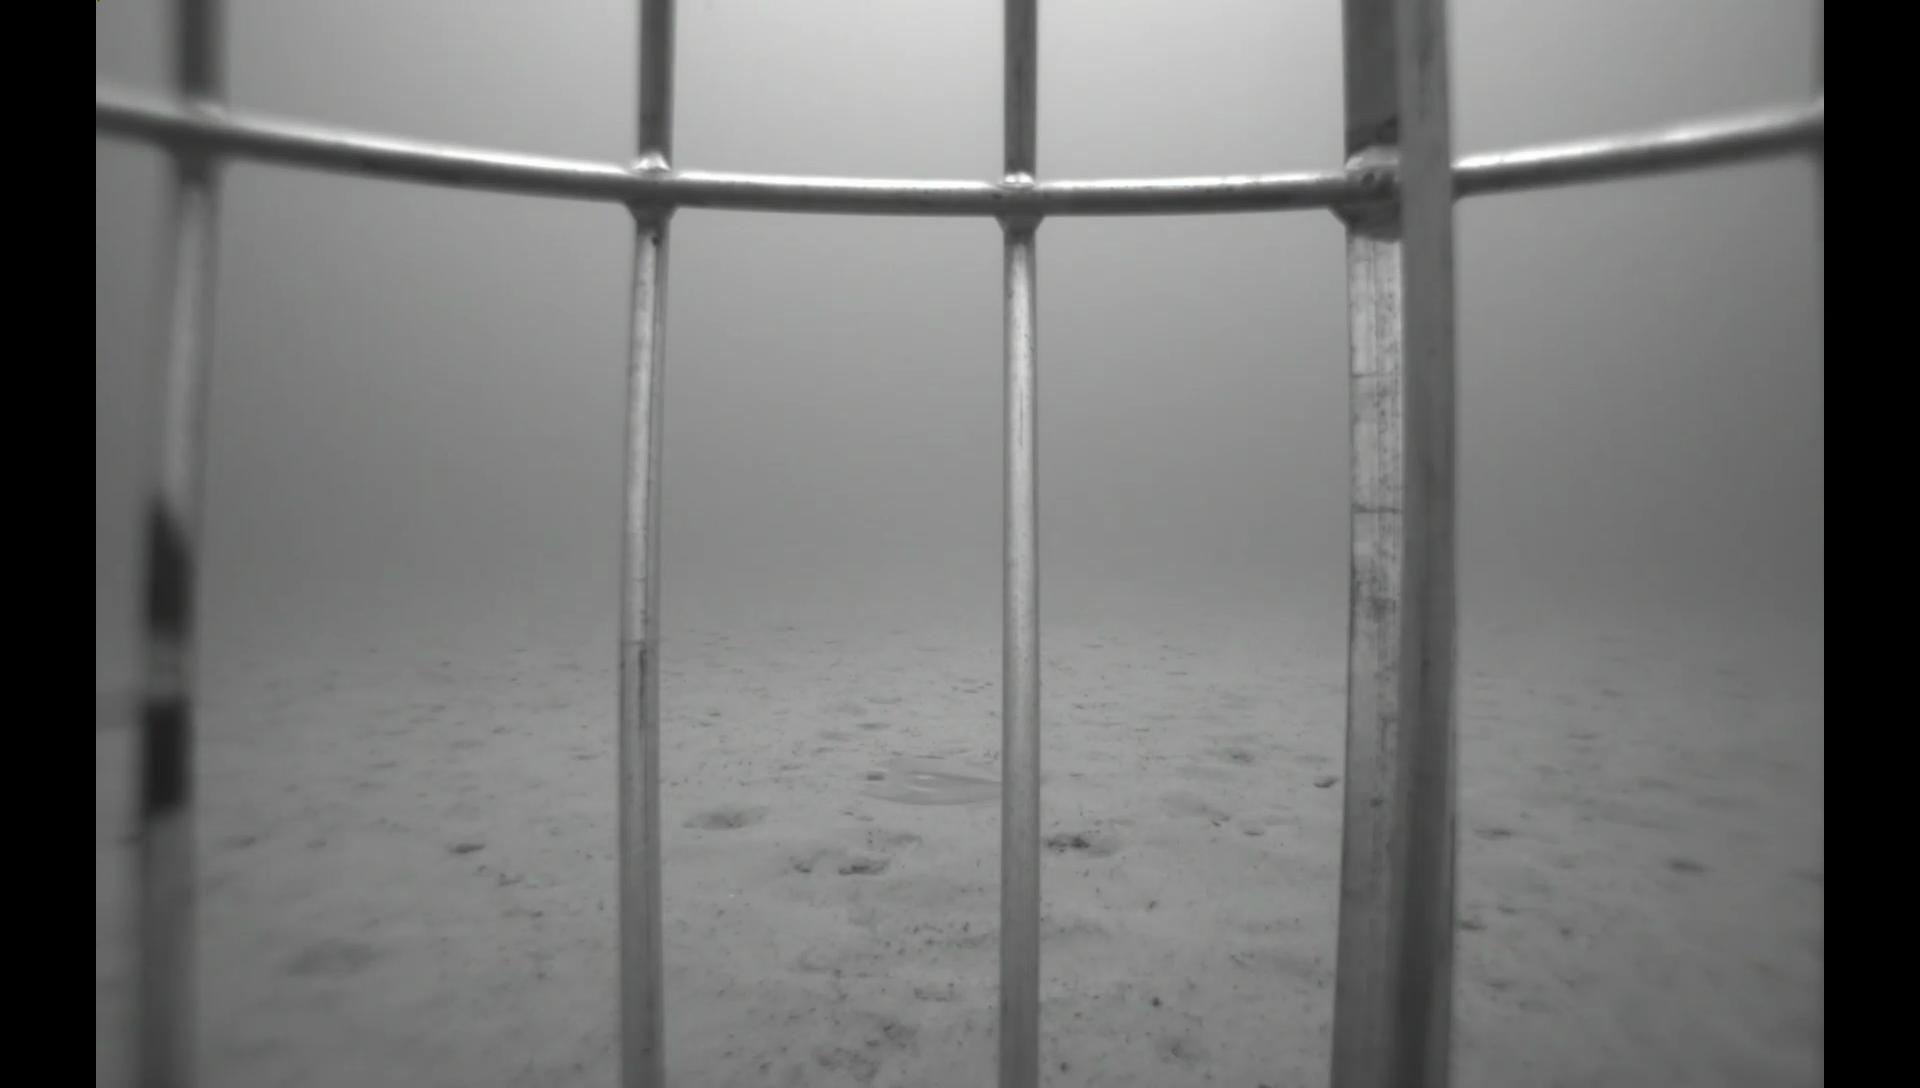CAULOLATILUSCYANOPS-170070101: (847, 744, 1067, 824)
